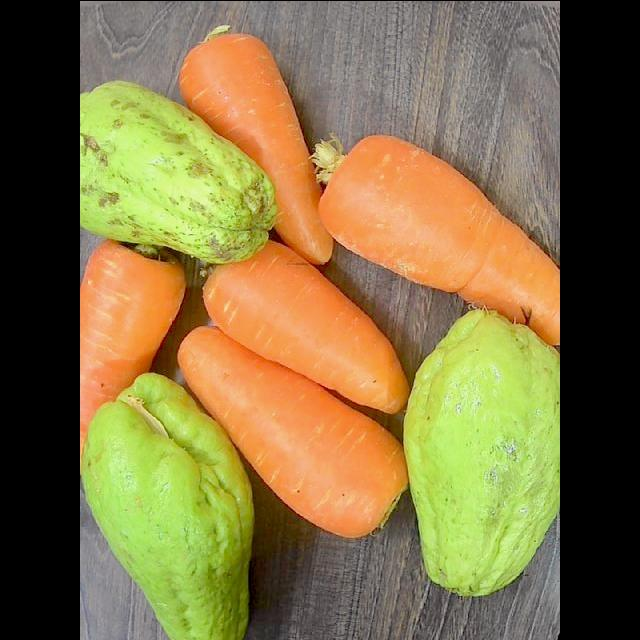chayote: (82, 374, 253, 639), (404, 309, 559, 594), (80, 81, 276, 261)
zanahoria: (320, 135, 559, 342), (179, 325, 407, 536), (179, 25, 332, 262), (203, 240, 408, 412), (80, 238, 185, 472)
